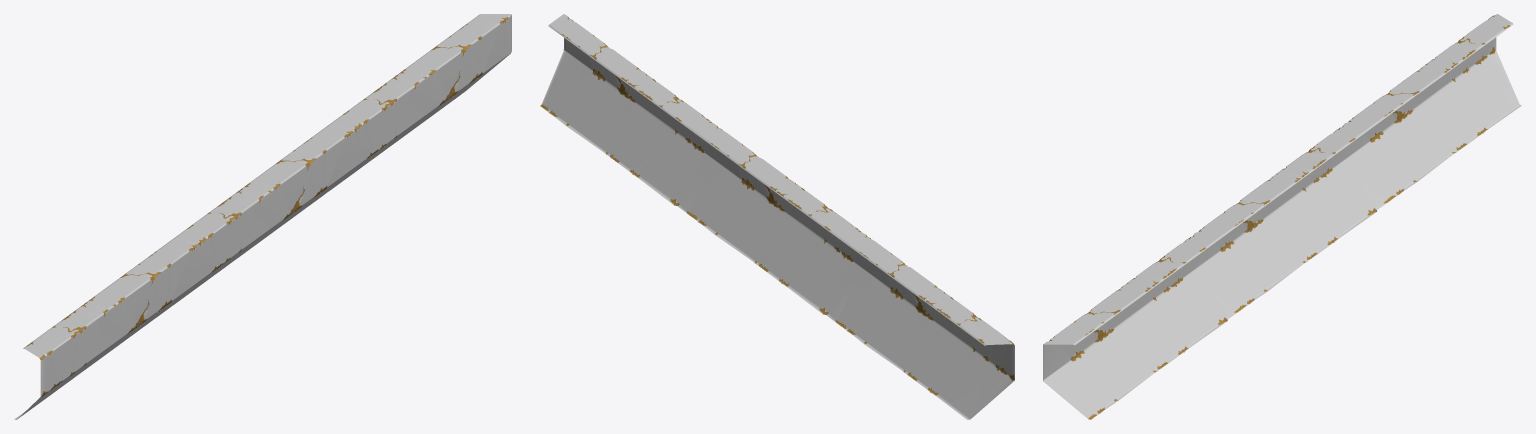
3 renders of one model, left to right at view 1: azimuth 90°, elevation 25°; view 2: azimuth 150°, elevation 25°; view 3: azimuth 270°, elevation 25°, orthographic. The views are drawn at different scales.
Visible parts, largest first — view 1: SM_Nightmare_Crucible_Arena_BorderA_01v1_LOD0; view 2: SM_Nightmare_Crucible_Arena_BorderA_01v1_LOD0; view 3: SM_Nightmare_Crucible_Arena_BorderA_01v1_LOD0.
Part boxes in pixels (left/top/right/bottom): SM_Nightmare_Crucible_Arena_BorderA_01v1_LOD0: left=14, top=14, right=511, bottom=419; SM_Nightmare_Crucible_Arena_BorderA_01v1_LOD0: left=540, top=14, right=1014, bottom=419; SM_Nightmare_Crucible_Arena_BorderA_01v1_LOD0: left=1043, top=14, right=1521, bottom=419.
Bounding box in the file's own units: 120 × 12.76 × 73.37.
